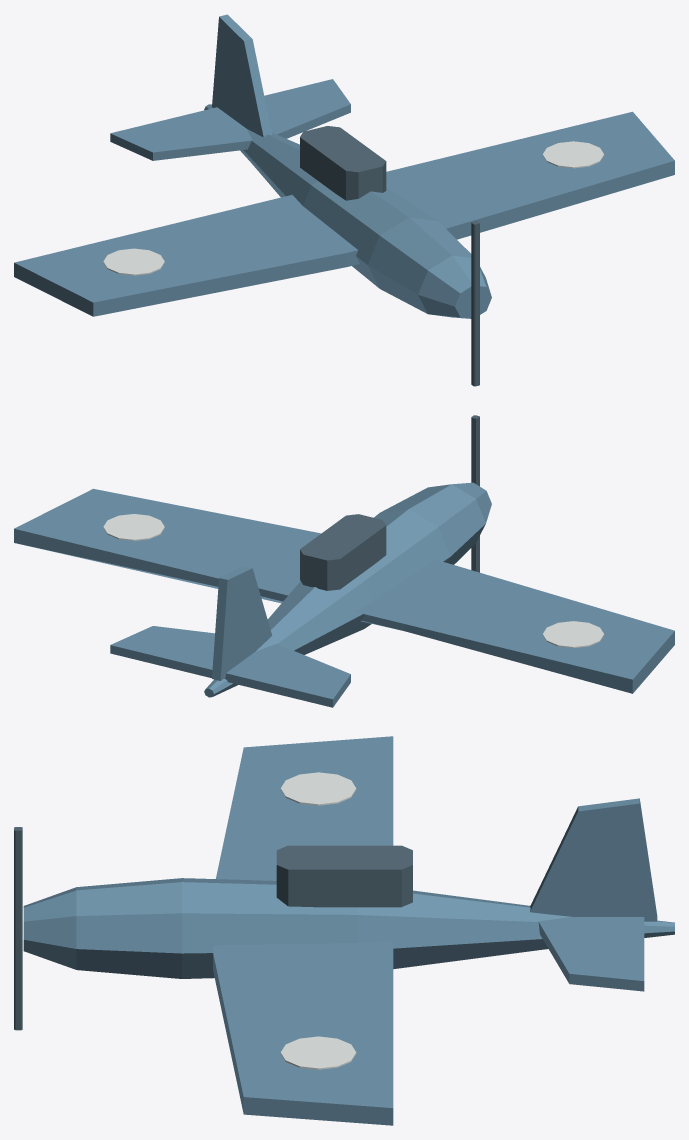
3 views of the same model, one above another, from view 1: azimuth 30°, elevation 25°; view 2: azimuth 150°, elevation 25°; view 3: azimuth 270°, elevation 25° (orthographic). The views are drawn at different scales.
Visible parts, largest first — view 1: f4f; view 2: f4f; view 3: f4f.
Part boxes in pixels (bbox=[...]): f4f: bbox=[14, 14, 674, 386]; f4f: bbox=[14, 415, 674, 707]; f4f: bbox=[14, 736, 674, 1125].
Bounding box in the file's own units: 10 × 2.85 × 7.51.
